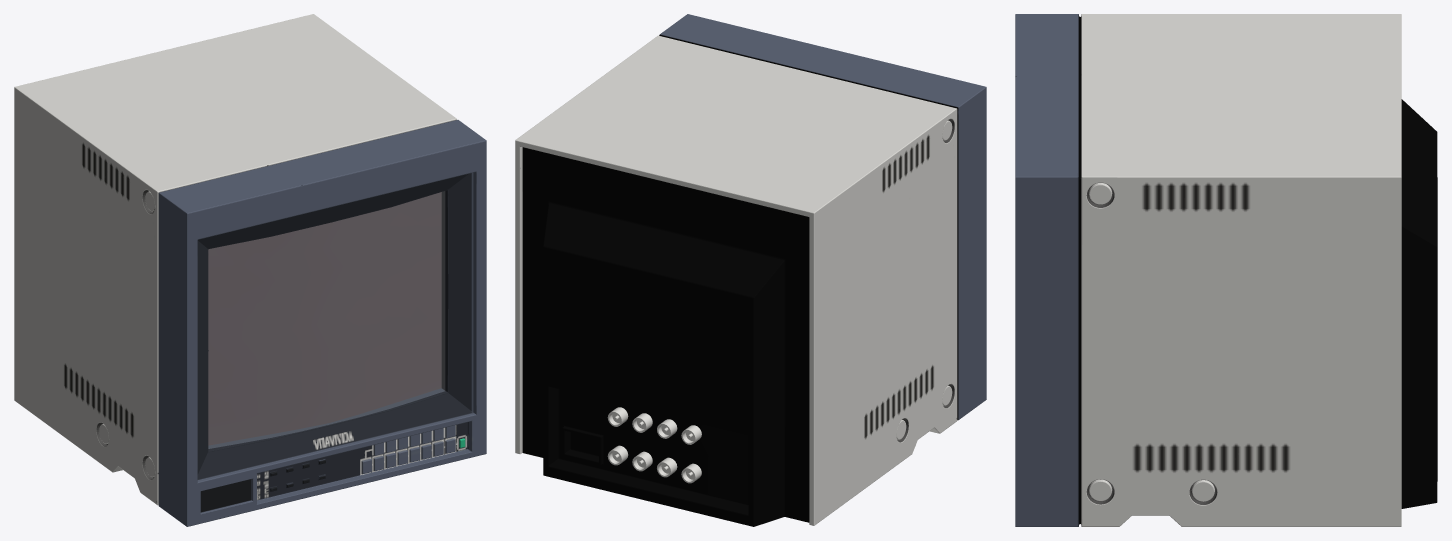
File: CRTMonitor.fbx
3 renders of one model, left to right at view 1: azimuth 30°, elevation 25°; view 2: azimuth 150°, elevation 25°; view 3: azimuth 270°, elevation 25°, orthographic. The views are drawn at different scales.
Visible parts, largest first — view 1: CRT, Dislpay; view 2: CRT; view 3: CRT.
Boxes of the visible parts, x1,y1,x2,y2 form: CRT: (14, 14, 486, 526); Dislpay: (208, 192, 441, 445); CRT: (515, 14, 986, 526); CRT: (1015, 14, 1437, 526).
Size of the model in its own units: 122 by 122 by 133.
